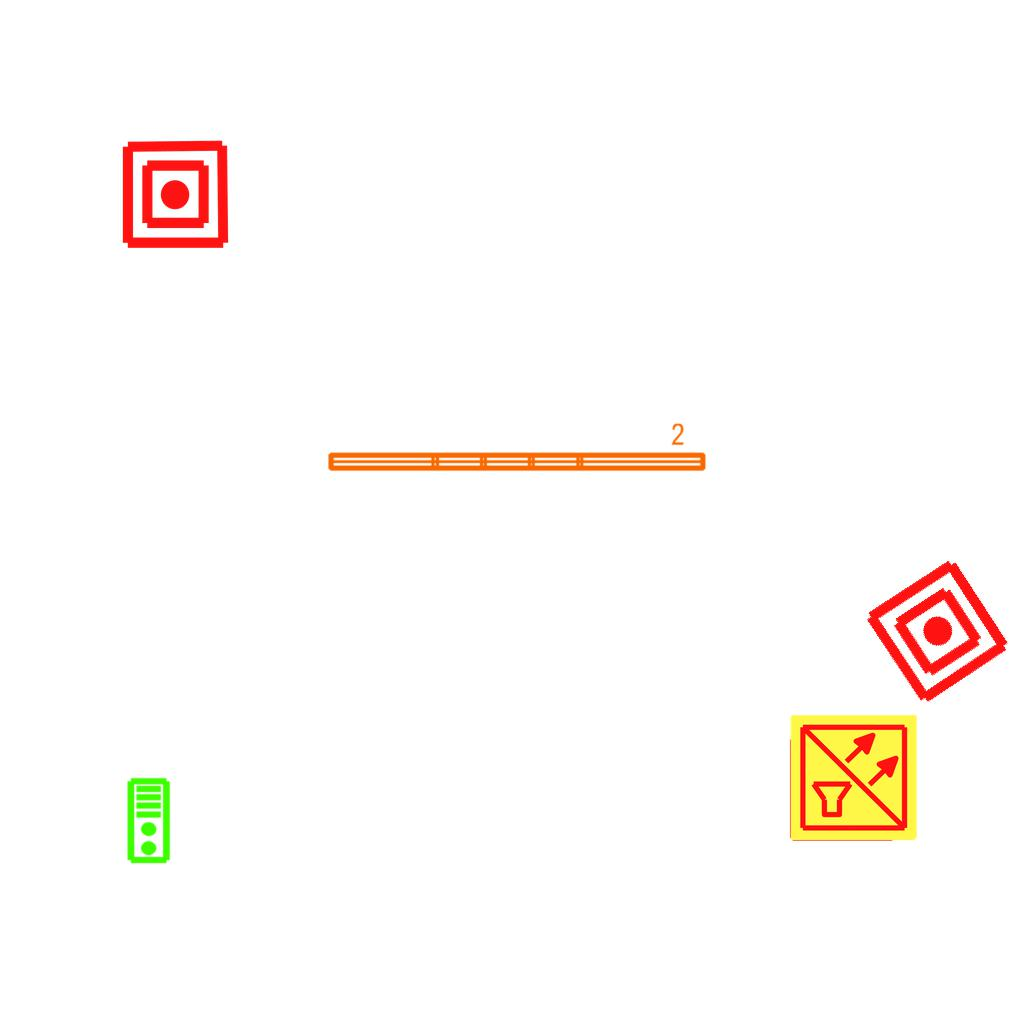Ambulanz_Pendelleuchte_LED: (323, 421, 710, 477)
Gegensprechanlage_mit_Video: (126, 777, 173, 865)
NAM-Nichtautomatischer_Melder: (859, 553, 1016, 710), (119, 138, 232, 251)
OKW_Multisensormelder_(Kombination_optischer_Rauch-Kahlenmonoxid_Waerme-Melder): (788, 712, 920, 844)
